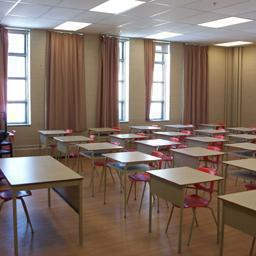Ventana: (46, 30, 84, 122), (1, 28, 28, 124), (105, 38, 129, 119), (147, 40, 169, 120)
